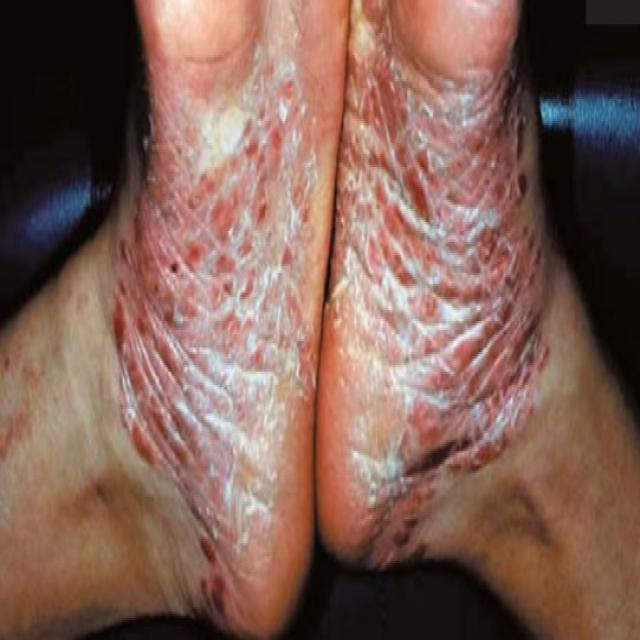Psoriasis Pustulosa: (0, 0, 639, 638), (0, 0, 347, 638)
